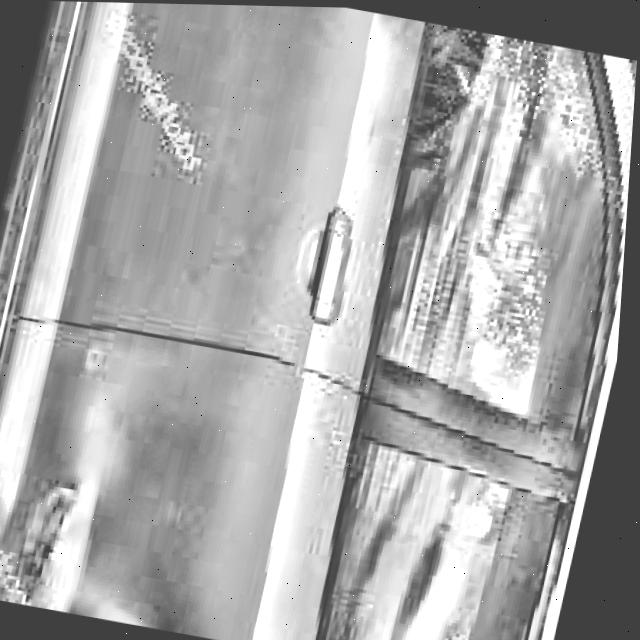door_dent: (5, 412, 279, 640)
